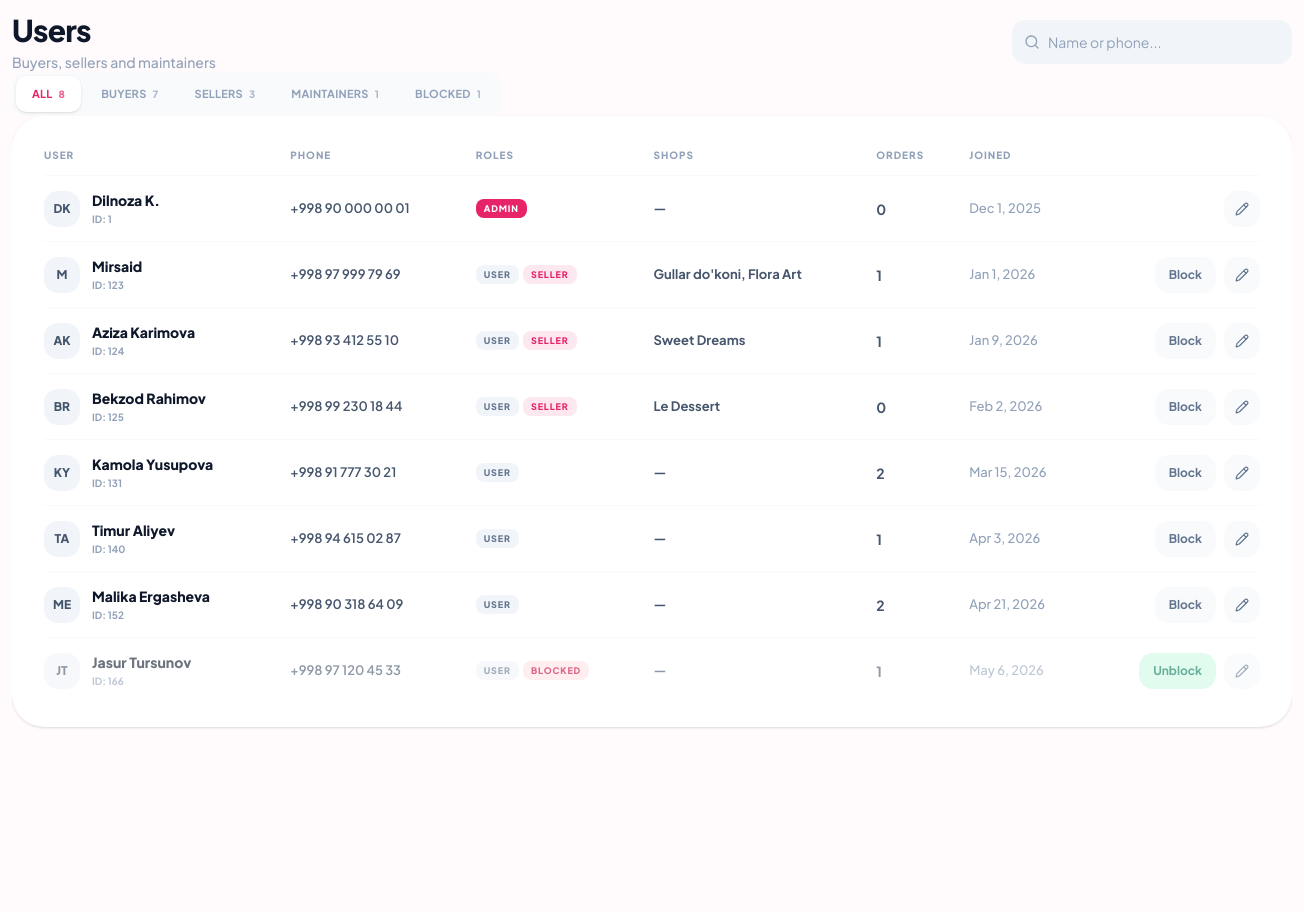
Test: UsersPage › blocks a user and updates the Blocked tab count
Expected: the text "Kamola Yusupova" is shown, [92,454,213,474]
Expected: the tab "Blocked 1" is shown, [399,76,497,112]
Click the button "Block" in the row of "KY" at (1185, 472), box [1155,454,1216,490]
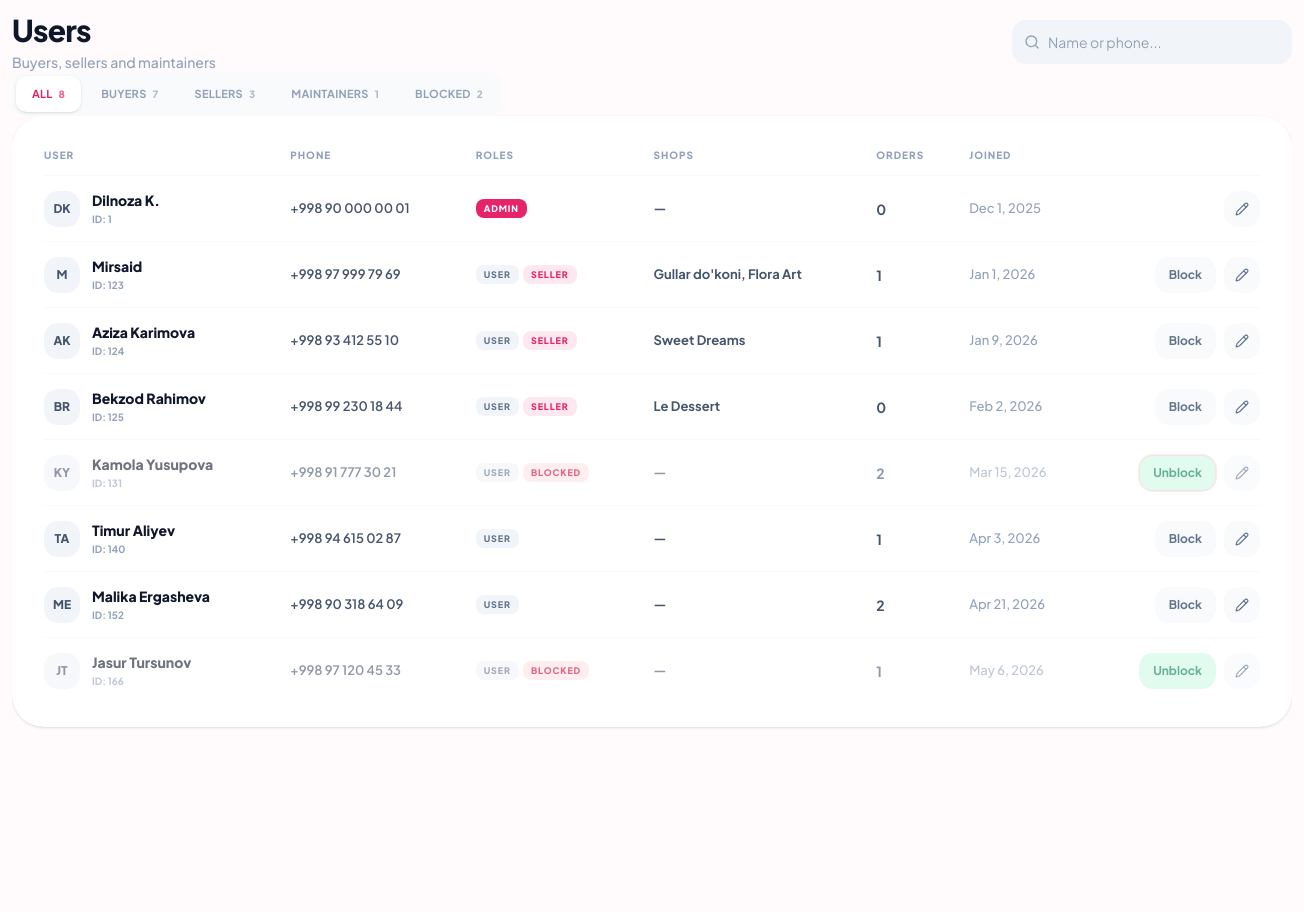
Expected: the button "Unblock" in the row of "KY" is shown, [1139,454,1216,490]
Expected: the text "BLOCKED" in the row of "KY" is shown, [531,467,581,478]
Expected: the tab "Blocked 2" is shown, [399,76,499,112]
